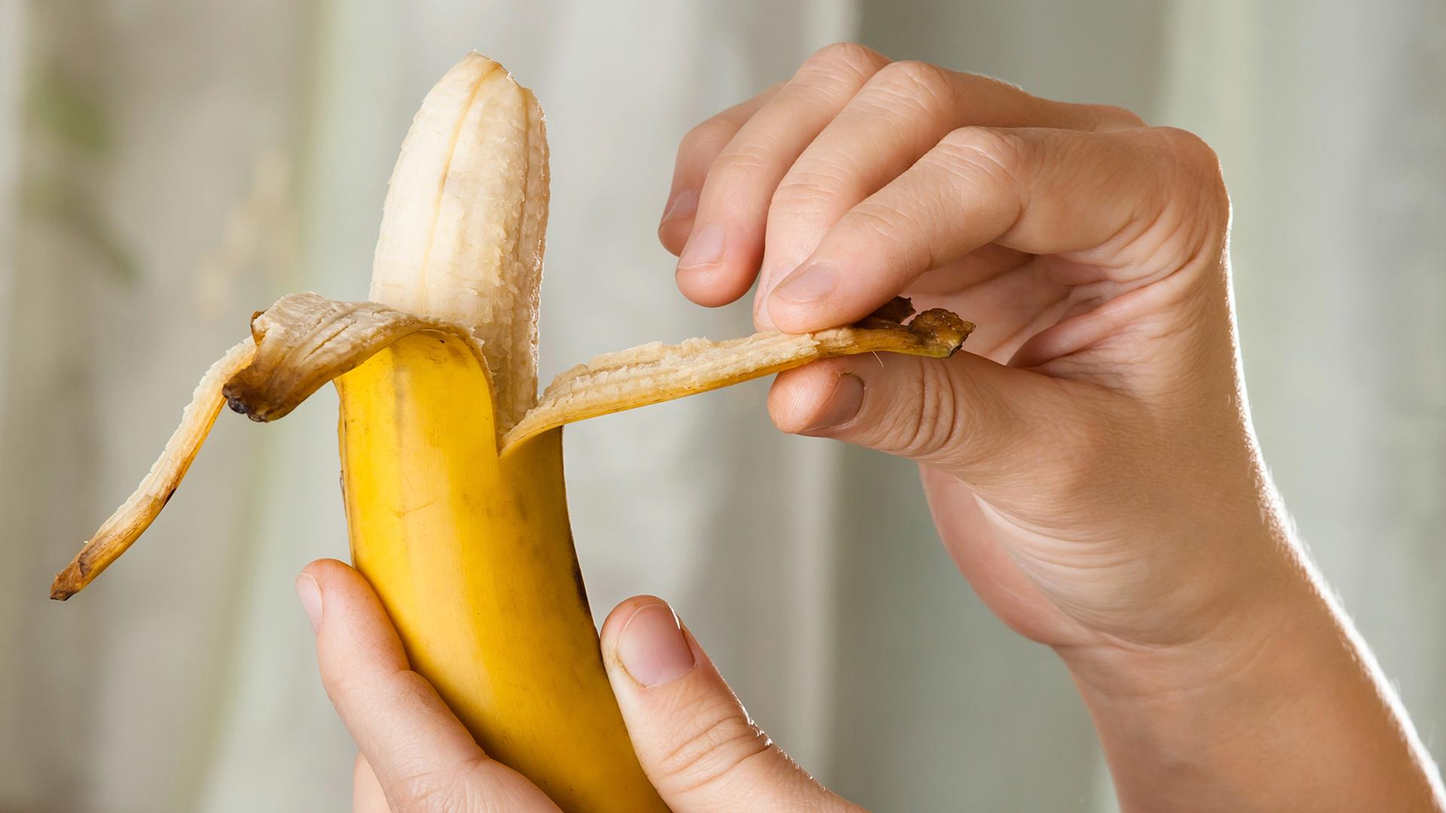banana: (41, 50, 857, 793)
